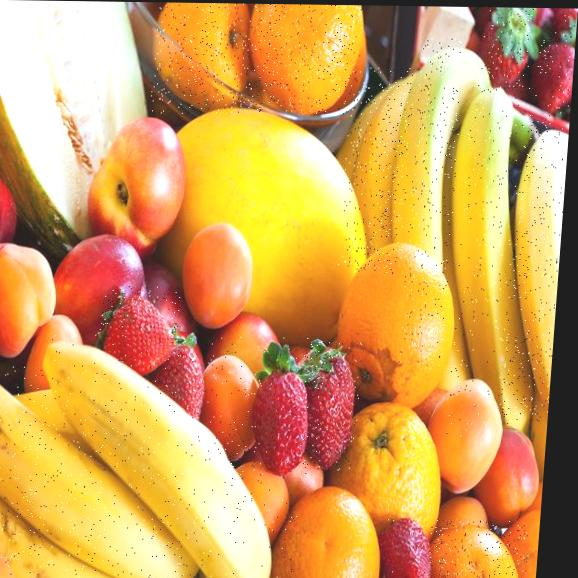Banana: (27, 333, 311, 578), (0, 365, 215, 578), (446, 79, 550, 440), (398, 38, 466, 369), (500, 122, 570, 428), (337, 66, 415, 274)
Orange: (244, 4, 364, 114), (150, 2, 256, 114), (427, 520, 530, 578)
Strawberry: (247, 338, 318, 482), (296, 342, 364, 471), (97, 286, 181, 374), (157, 334, 214, 420), (480, 7, 534, 88), (377, 513, 438, 578), (534, 38, 576, 118), (552, 8, 578, 55)
